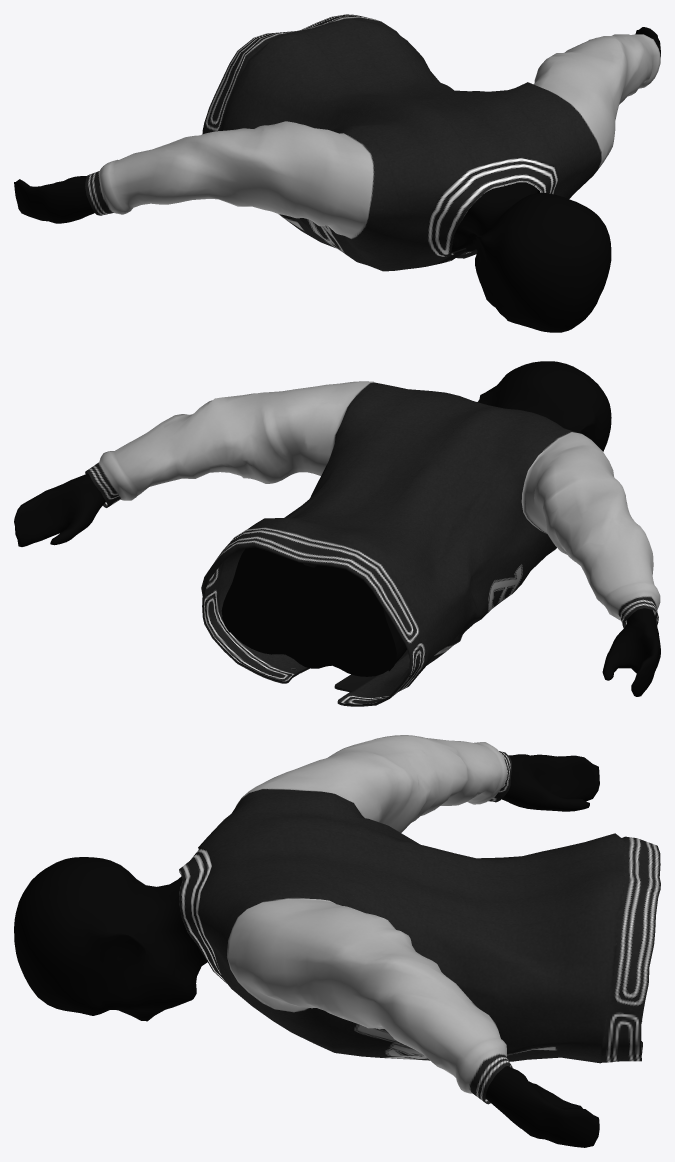
Rendered from basketball-jacket-cda1eb.glb.
3 views of the same model, one above another, from view 1: azimuth 30°, elevation 25°; view 2: azimuth 150°, elevation 25°; view 3: azimuth 270°, elevation 25° (orthographic). The views are drawn at different scales.
Visible parts, largest first — view 1: PropMesh; view 2: PropMesh; view 3: PropMesh.
Boxes of the visible parts, x1,y1,x2,y2 form: PropMesh: (14,14,660,332); PropMesh: (14,361,660,706); PropMesh: (14,735,660,1147).
Bounding box in the file's own units: 7.89 × 2.2 × 6.07.
Materials: 2 (1 with a texture image).
